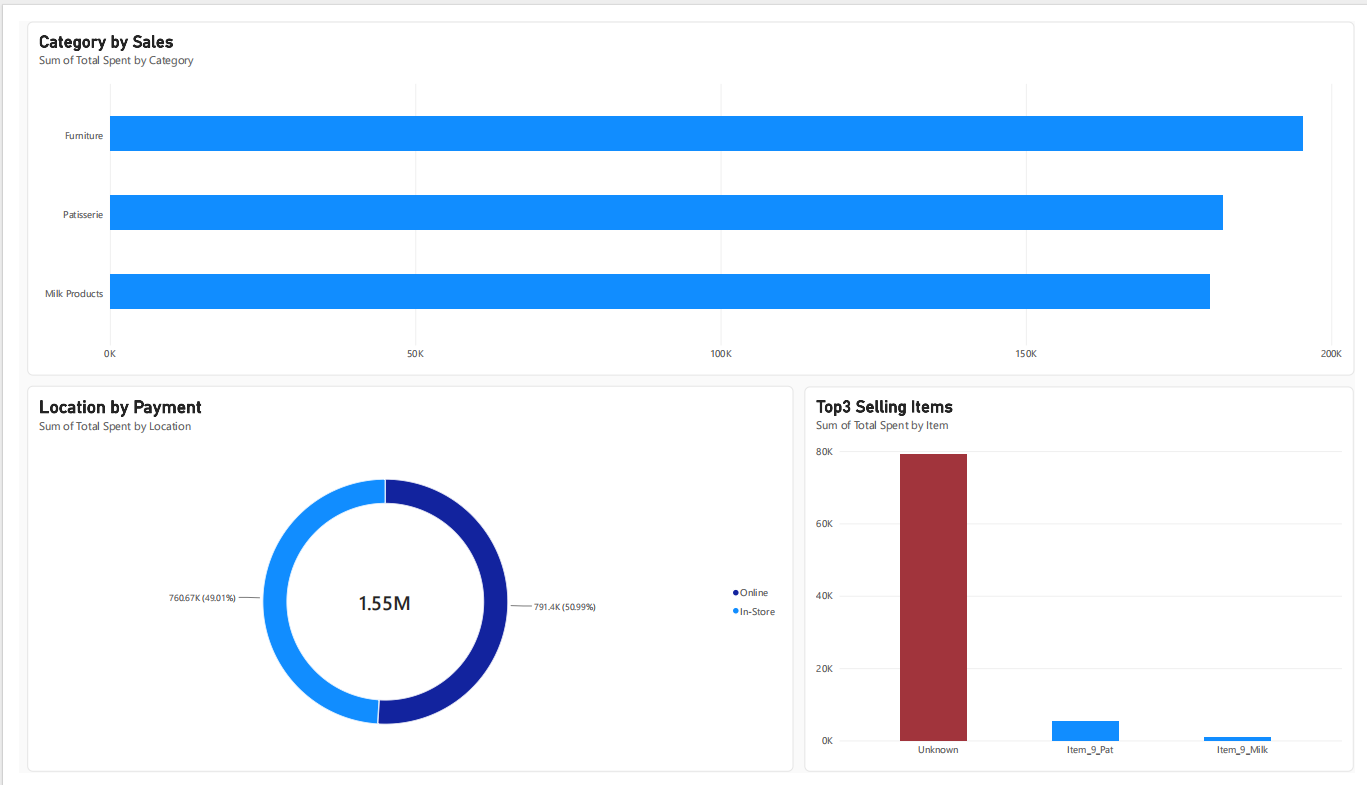

The dashboard page shown, as its layout file describes it:
{"tool":"powerbi","page":{"name":"Page 1","canvas":[1920,1080],"ordinal":0},"visuals":[{"type":"barChart","title":"Category  by Sales","fields":{"Category":["clean_retail.Category"],"Y":["Sum(clean_retail.Total Spent)"]},"box":[10.8,0,1909.1,509.1],"z":0},{"type":"donutChart","title":"Location by Payment","fields":{"Category":["clean_retail.Location"],"Y":["Sum(clean_retail.Total Spent)"]},"box":[10.8,524.2,1102.3,554.4],"z":1},{"type":"columnChart","title":"Top3 Selling Items","fields":{"Category":["clean_retail.Item"],"Y":["Sum(clean_retail.Total Spent)"]},"box":[1128.8,524.7,790.4,554.2],"z":2}]}

Visuals, with their boxes in screenshot pixels (x1, y1, x2, y2), scaled from the page's 1920x1080 canvas onto the 1367x785 screenshot:
"Category  by Sales" barChart: 8 0 1366 370
"Location by Payment" donutChart: 8 381 793 784
"Top3 Selling Items" columnChart: 804 381 1366 784
